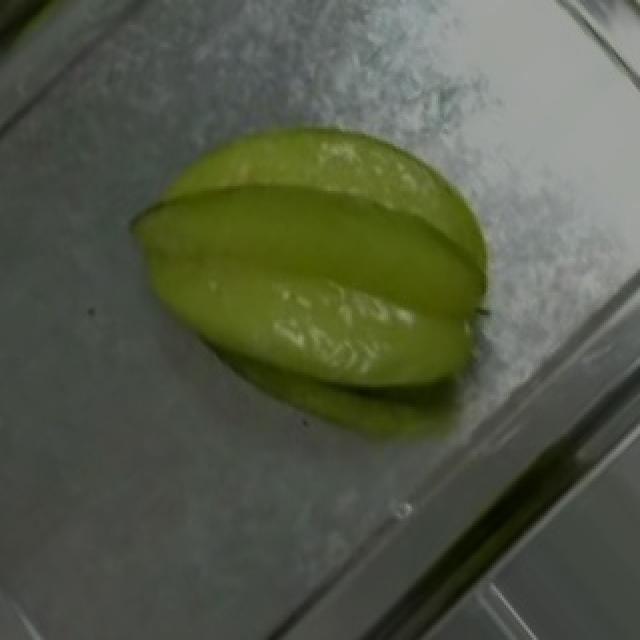fruit: (74, 72, 560, 496)
